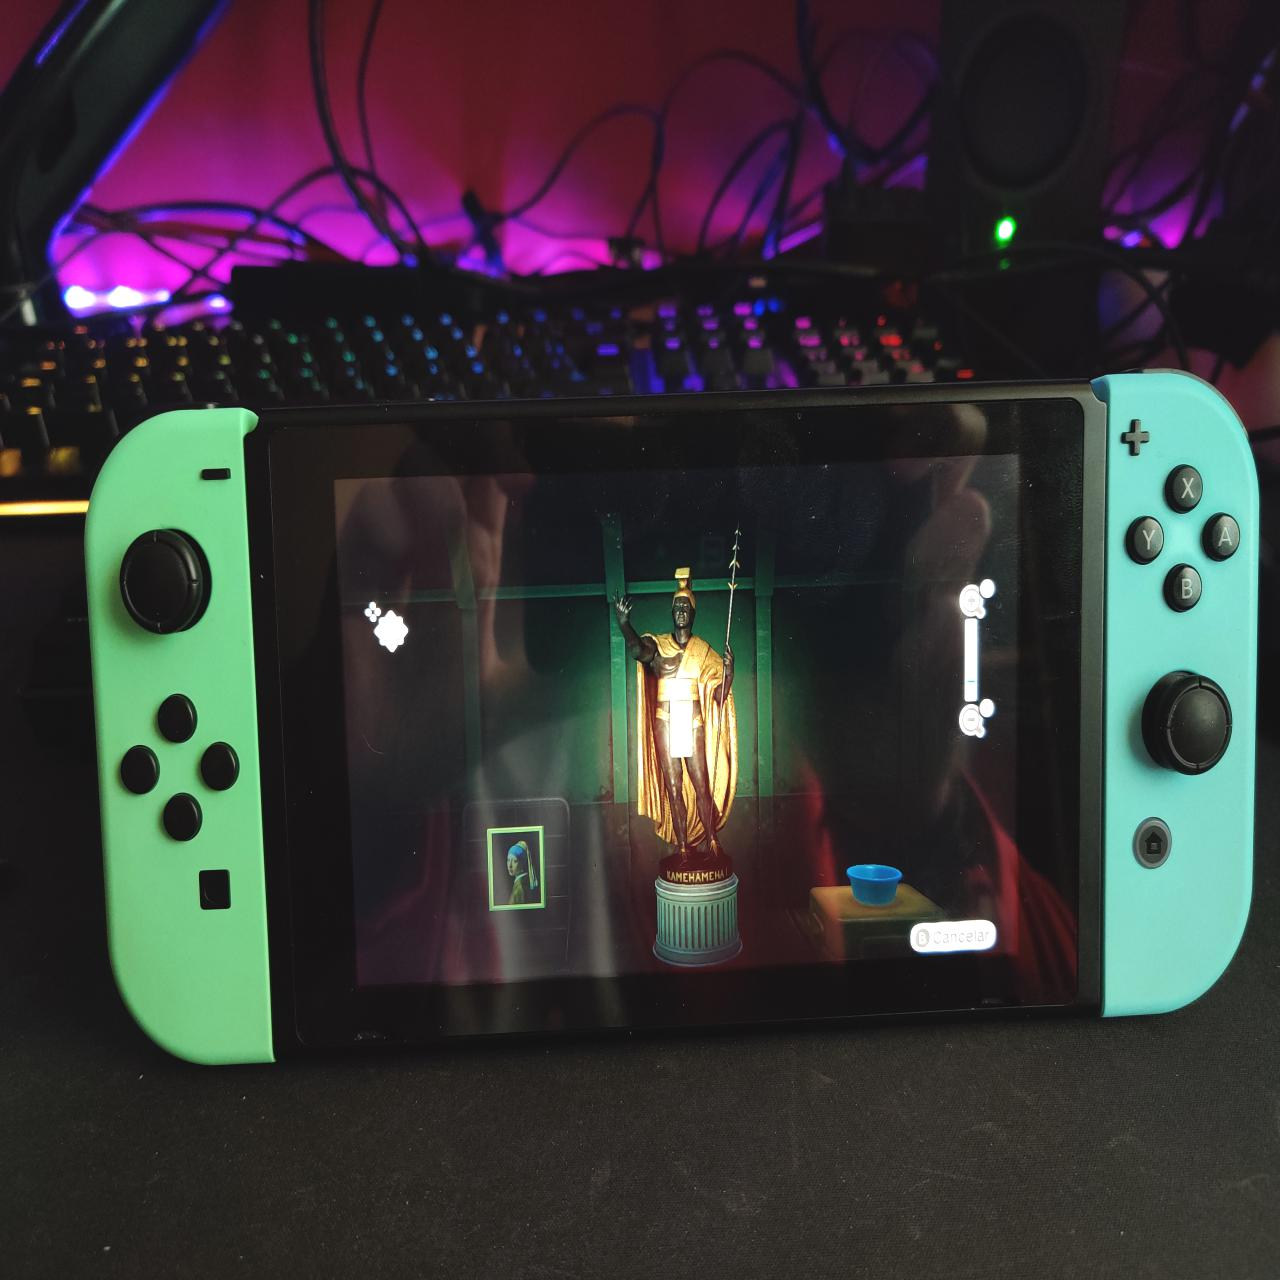Kamehameha: (610, 520, 751, 890)
PearlEarring: (493, 832, 542, 908)
